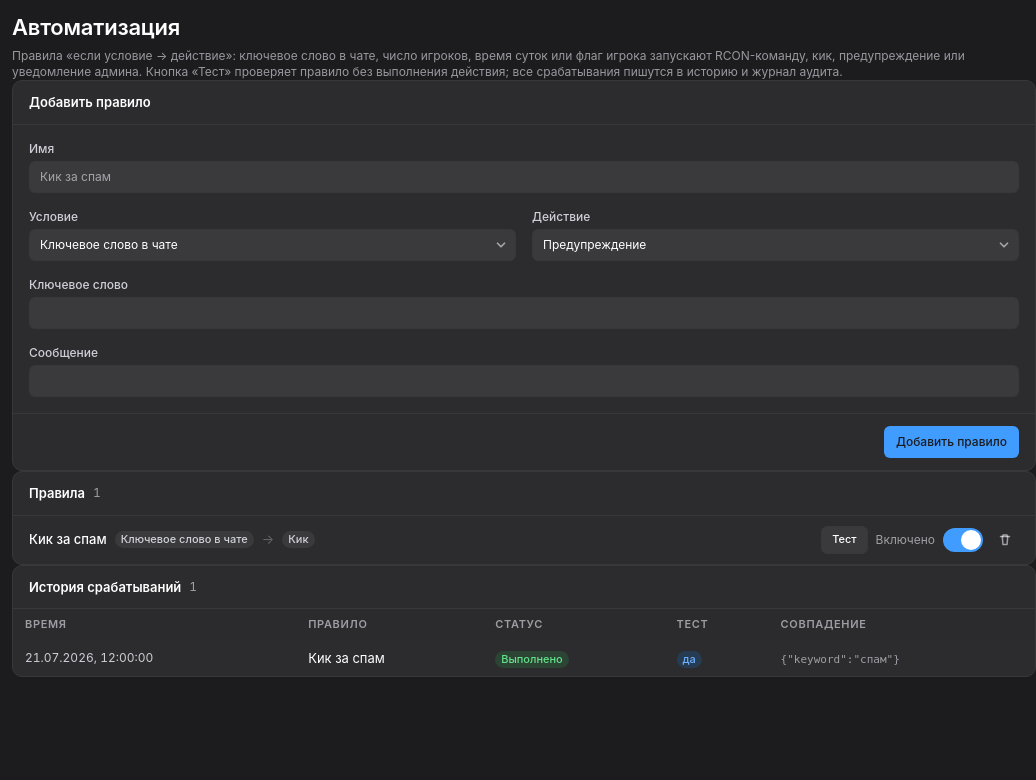
Scenario: AutomationPage › refuses to create a rule without a name
Click the button "Добавить правило": (951, 442) [884,426,1019,458]
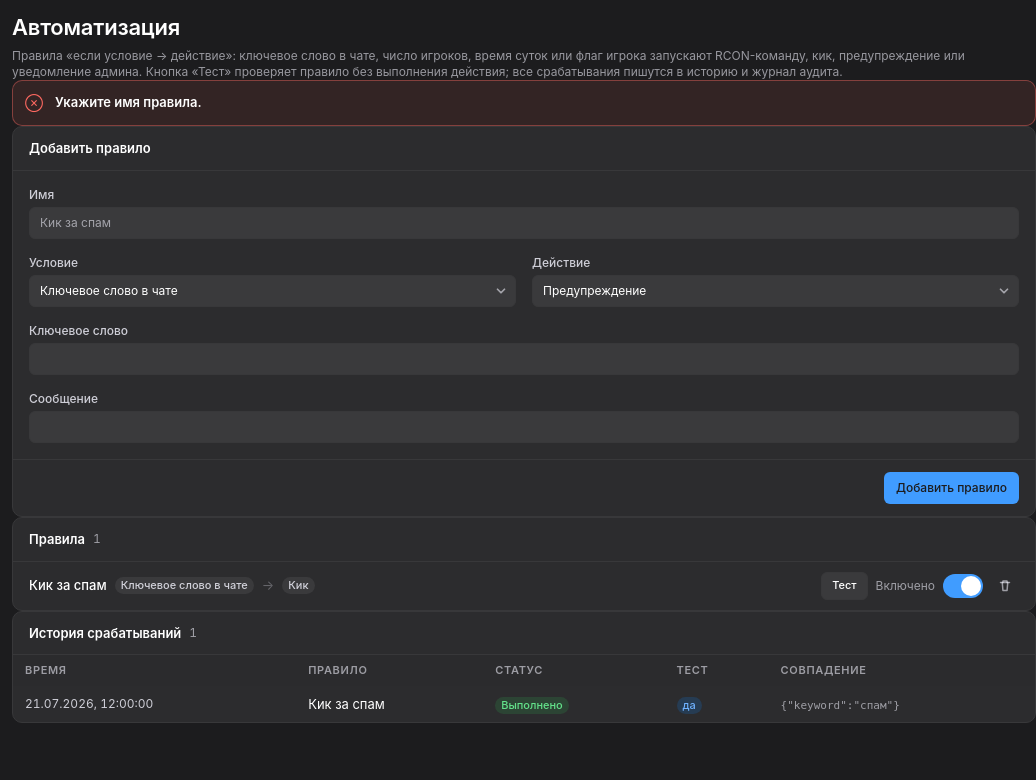
Expected: the text "Укажите имя правила." is shown, [55,94,202,110]
